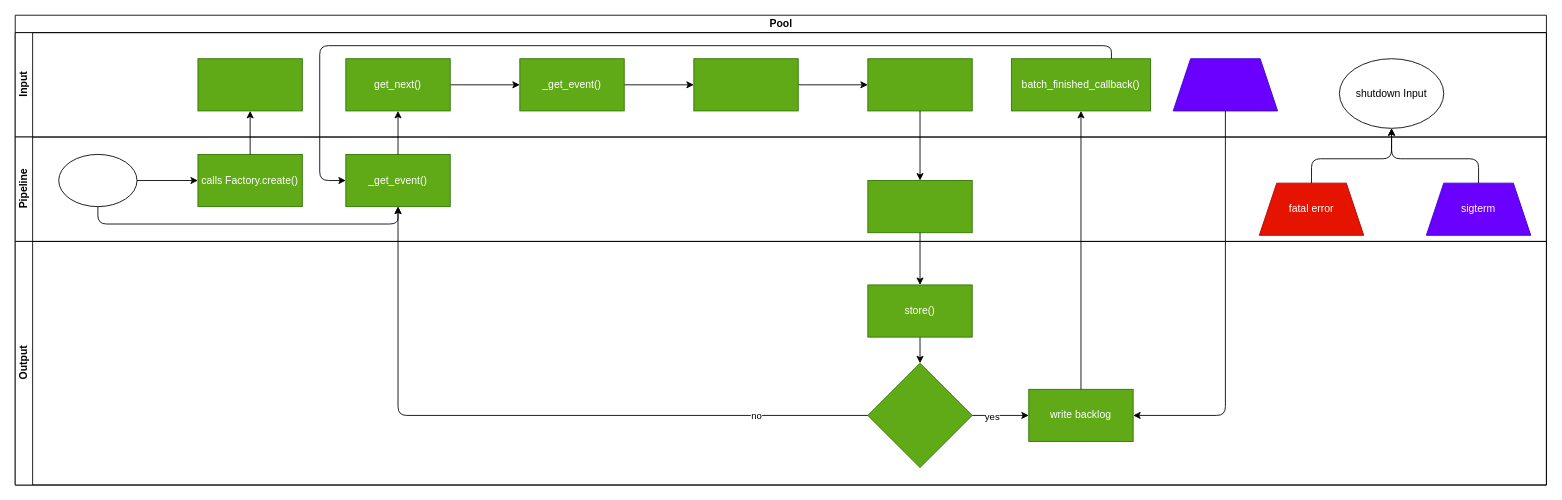
Image size: 1562x500. Some labels were removed from this diagram. Here are the shapes that lost their labels. From the top down, the centre of each, then its label:
At point 249,84: "__init__()".
At point 745,84: "_get_raw_event()".
At point 919,84: "apply preprocessing".
At point 1225,84: "revoke callback".
At point 97,180: "_setup()".
At point 919,206: "processing event".
At point 919,415: "backlog full?/ timeout exceeded".
